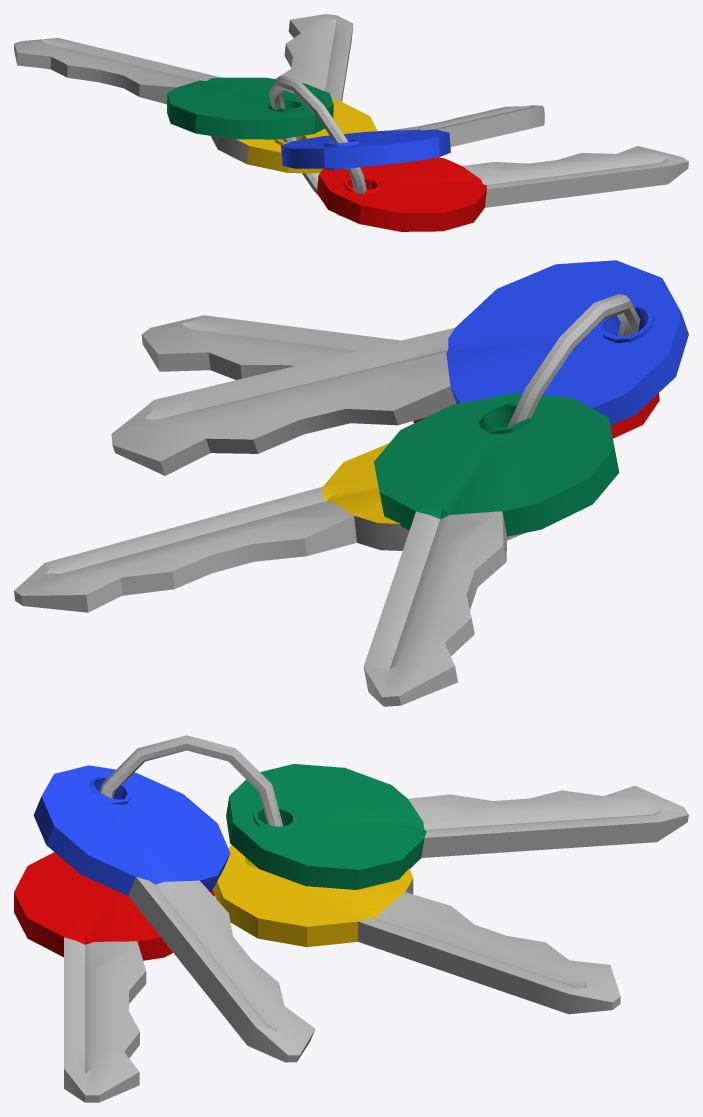
File: Keys_02.glb
The picture shows the model from 3 angles, top to bottom: view 1: azimuth 30°, elevation 25°; view 2: azimuth 150°, elevation 25°; view 3: azimuth 270°, elevation 25°; orthographic projection. The views are drawn at different scales.
Visible parts, largest first — view 1: Mesh_Keys_02; view 2: Mesh_Keys_02; view 3: Mesh_Keys_02.
Part boxes in pixels (x1,y1,x2,y2): Mesh_Keys_02: (14, 14, 688, 231); Mesh_Keys_02: (14, 260, 688, 706); Mesh_Keys_02: (14, 735, 688, 1102).
Size of the model in its own units: 0.0685 by 0.0212 by 0.0766.
1 material, 1 textured.
